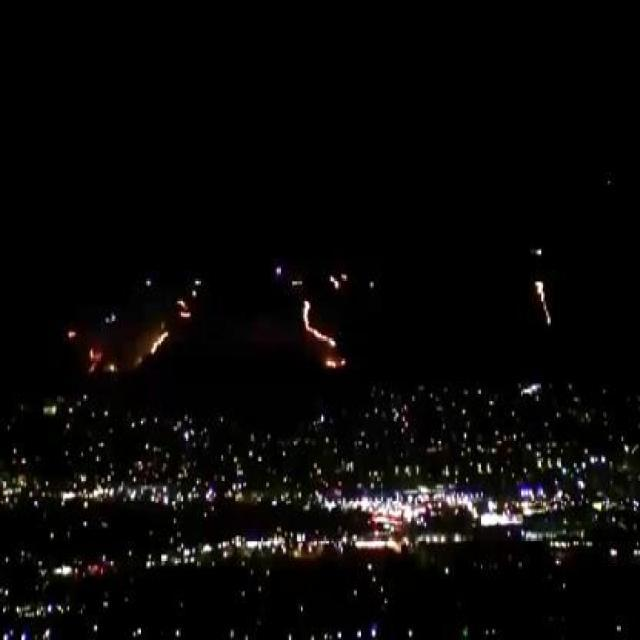Fire: (303, 302, 337, 348), (536, 278, 553, 324), (149, 330, 171, 356), (326, 355, 348, 368)
